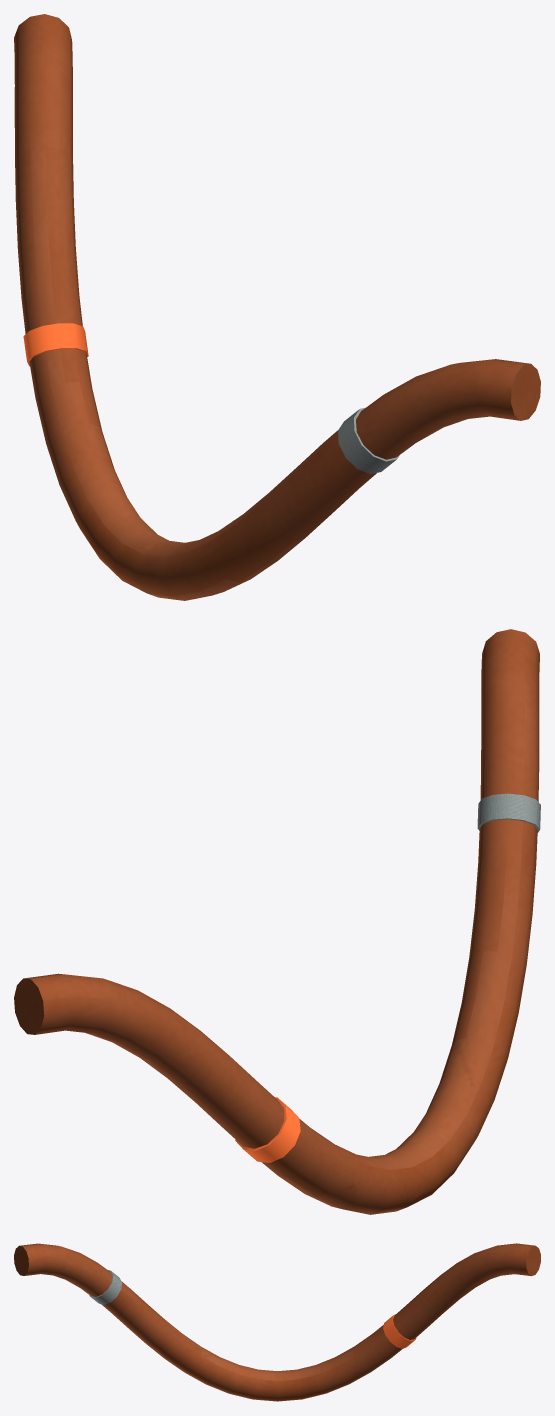
The model's file is loom_service_power.fbx.
3 views of the same model, one above another, from view 1: azimuth 30°, elevation 25°; view 2: azimuth 150°, elevation 25°; view 3: azimuth 270°, elevation 25° (orthographic). The views are drawn at different scales.
Visible parts, largest first — view 1: SM_loom_service_power; view 2: SM_loom_service_power; view 3: SM_loom_service_power.
Part boxes in pixels (bbox=[...]): SM_loom_service_power: bbox=[14, 14, 540, 600]; SM_loom_service_power: bbox=[14, 629, 540, 1214]; SM_loom_service_power: bbox=[14, 1243, 540, 1401].
Size of the model in its own units: 0.0833 by 0.1496 by 0.3756.
3 materials, 2 textured.
